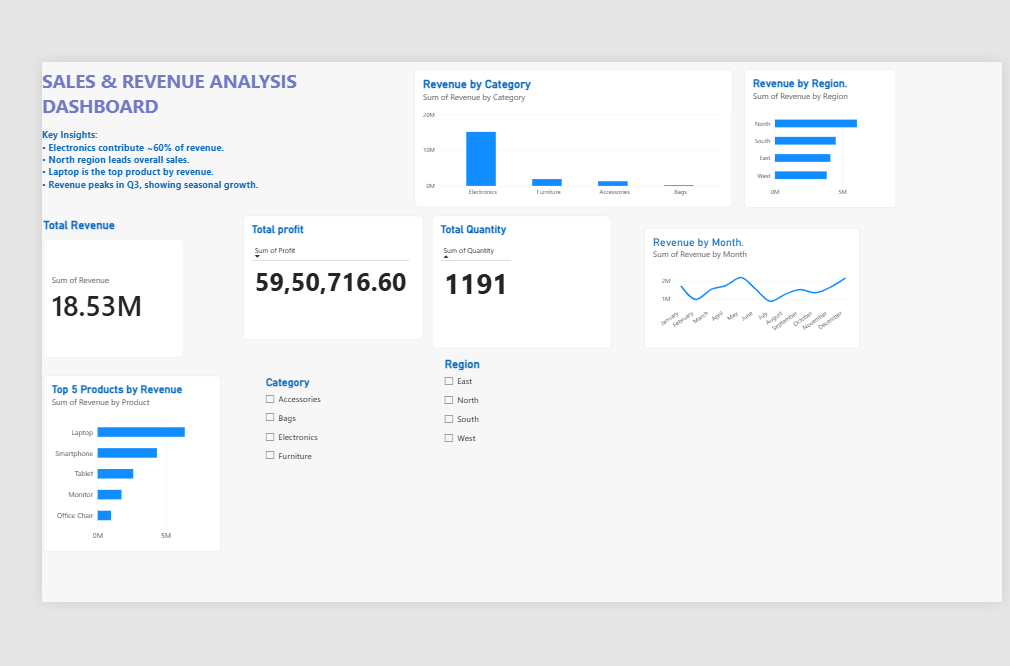

This screenshot's page, from the dashboard's own definition file:
{"tool":"powerbi","page":{"name":"Page 1","canvas":[1920,1080],"ordinal":0},"visuals":[{"type":"cardVisual","title":"Total Revenue","fields":{"Data":["Sum(thiranex_sales_revenue_dataset.Revenue)"]},"box":[2.5,312.5,280,280],"z":0},{"type":"tableEx","title":"Total profit","fields":{"Values":["Sum(thiranex_sales_revenue_dataset.Profit)"]},"box":[401.2,306.2,360,247.5],"z":1000},{"type":"tableEx","title":"Total Quantity","fields":{"Values":["Sum(thiranex_sales_revenue_dataset.Quantity)"]},"box":[780,306.2,358.8,265],"z":2000},{"type":"clusteredColumnChart","title":"Revenue by Category","fields":{"Category":["thiranex_sales_revenue_dataset.Category"],"Y":["Sum(thiranex_sales_revenue_dataset.Revenue)"]},"box":[745,15,635,275],"z":3000},{"type":"clusteredBarChart","title":"Revenue by Region.","fields":{"Category":["thiranex_sales_revenue_dataset.Region"],"Y":["Sum(thiranex_sales_revenue_dataset.Revenue)"]},"box":[1406,14,303,276],"z":4000},{"type":"lineChart","title":"Revenue by Month.","fields":{"Category":["thiranex_sales_revenue_dataset.Order Date.Variation.Date Hierarchy.Month"],"Y":["Sum(thiranex_sales_revenue_dataset.Revenue)"]},"box":[1205,332.5,430,240],"z":5000},{"type":"clusteredBarChart","title":"Top 5 Products by Revenue","fields":{"Category":["thiranex_sales_revenue_dataset.Product"],"Y":["Sum(thiranex_sales_revenue_dataset.Revenue)"]},"box":[2.2,627.8,355,351.7],"z":6000},{"type":"slicer","fields":{"Values":["thiranex_sales_revenue_dataset.Category"]},"box":[440,628,306,202],"z":7000},{"type":"slicer","fields":{"Values":["thiranex_sales_revenue_dataset.Region"]},"box":[796.7,590,266,276],"z":8000},{"type":"textbox","box":[0,12.5,565,120],"z":9000},{"type":"textbox","box":[0,133.3,628.3,156.7],"z":10000}]}

Visuals, with their boxes on the page's 1920x1080 design canvas (x1, y1, x2, y2). These are canvas units, not pixel positions in the 1010x666 screenshot, which may show the page scaled, cropped or inside an application window:
"Total Revenue" cardVisual: select_region(2, 312, 282, 592)
"Total profit" tableEx: select_region(401, 306, 761, 554)
"Total Quantity" tableEx: select_region(780, 306, 1139, 571)
"Revenue by Category" clusteredColumnChart: select_region(745, 15, 1380, 290)
"Revenue by Region." clusteredBarChart: select_region(1406, 14, 1709, 290)
"Revenue by Month." lineChart: select_region(1205, 332, 1635, 572)
"Top 5 Products by Revenue" clusteredBarChart: select_region(2, 628, 357, 980)
slicer - thiranex_sales_revenue_dataset.Category: select_region(440, 628, 746, 830)
slicer - thiranex_sales_revenue_dataset.Region: select_region(797, 590, 1063, 866)
textbox: select_region(0, 12, 565, 132)
textbox: select_region(0, 133, 628, 290)
